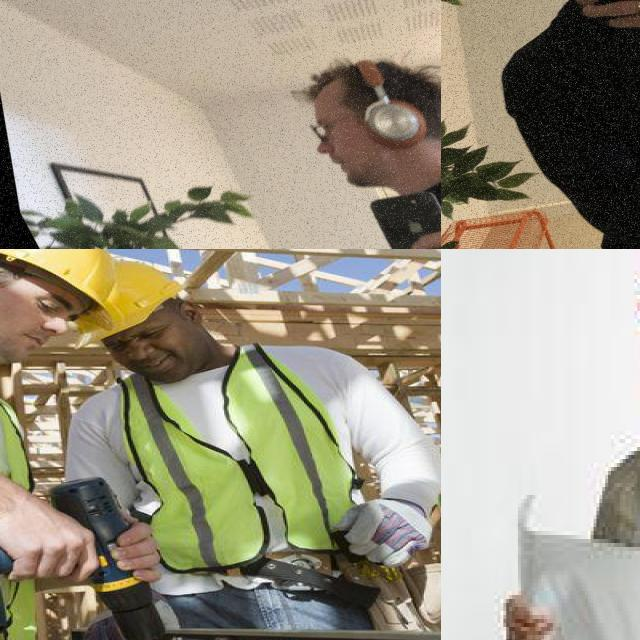Ear-protection: (258, 35, 441, 211)
No_Ear-Protection: (178, 301, 202, 325)
No_Glasses: (103, 300, 191, 351), (2, 276, 86, 321)
face_nomask: (110, 324, 236, 383), (0, 300, 67, 362)
hand_glove: (339, 499, 433, 567)
hand_noglove: (0, 508, 97, 580)
head_helmet: (77, 262, 182, 340), (0, 249, 114, 304)
person: (493, 0, 640, 249)
